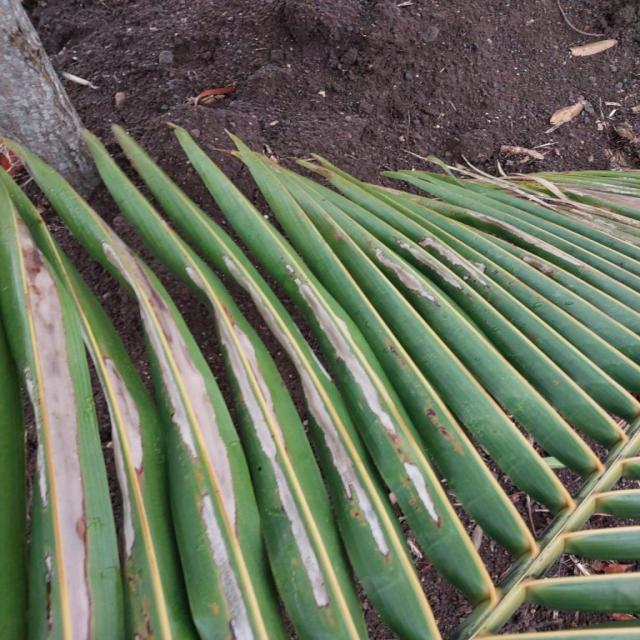gray leaf spot: (3, 224, 509, 622)
